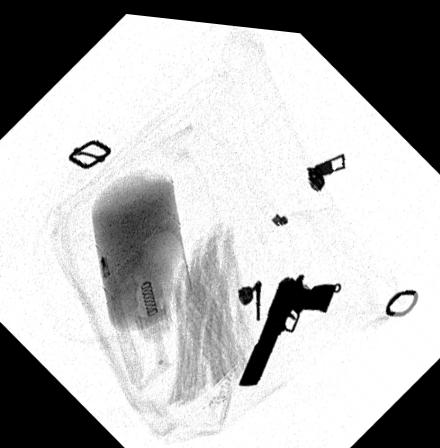Gun: (234, 266, 338, 380)
